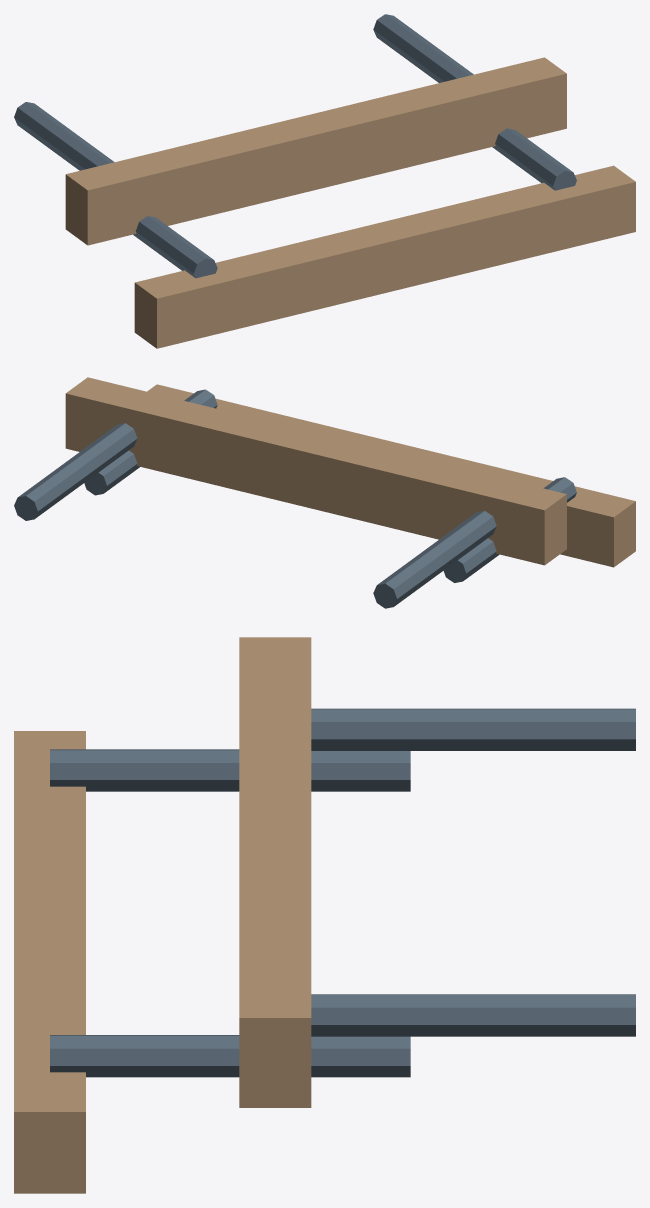
File: bench.glb
3 renders of one model, top to bottom at view 1: azimuth 30°, elevation 25°; view 2: azimuth 150°, elevation 25°; view 3: azimuth 270°, elevation 25°, orthographic. The views are drawn at different scales.
Visible parts, largest first — view 1: world; view 2: world; view 3: world.
Boxes of the visible parts, box(x1,y1,x2,y2) form: world: box(14, 14, 635, 348); world: box(14, 377, 635, 608); world: box(14, 637, 635, 1193).
Bounding box in the file's own units: 2 × 0.43 × 1.38.
